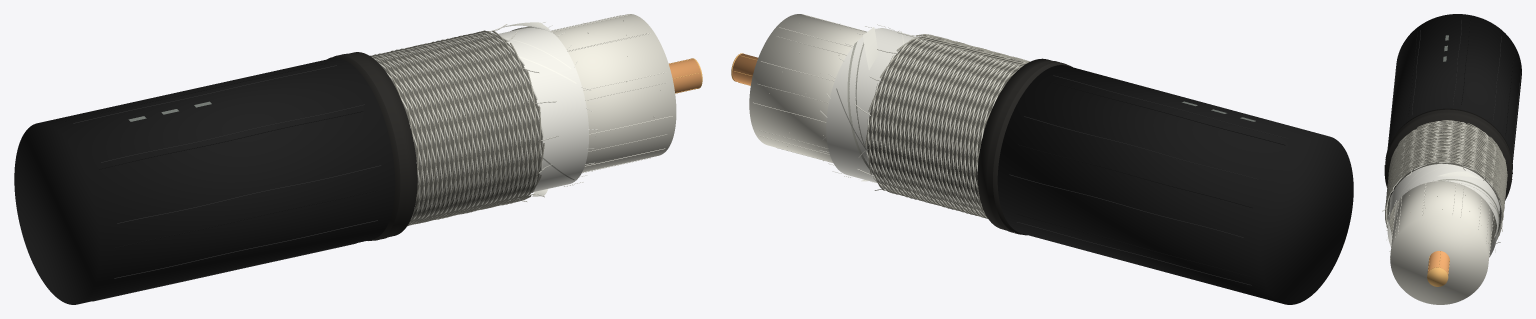
The model's file is rf-belden1505a-macro.glb.
The picture shows the model from 3 angles, left to right: view 1: azimuth 30°, elevation 25°; view 2: azimuth 150°, elevation 25°; view 3: azimuth 270°, elevation 25°; orthographic projection. The views are drawn at different scales.
Visible parts, largest first — view 1: macro jacket body, macro dielectric exposed core, shadow seen through braid windows, continuous foil sleeve under braid, thick jacket cut wall, rounded jacket cut lip, polished solid center conductor, macro braid shadow carrier 13 strand 1, macro braid shadow carrier 08 strand 1, macro braid shadow carrier 12 strand 1, macro braid shadow carrier 09 strand 1, macro braid shadow carrier 14 strand 1 (+14 smaller); view 2: macro jacket body, macro dielectric exposed core, shadow seen through braid windows, continuous foil sleeve under braid, thick jacket cut wall, rounded jacket cut lip, macro braid shadow carrier 03 strand 1, macro braid shadow carrier 14 strand 1, macro braid shadow carrier 08 strand 1, macro braid shadow carrier 04 strand 1, macro braid shadow carrier 01 strand 1, macro braid shadow carrier 02 strand 1 (+13 smaller); view 3: macro jacket body, macro dielectric exposed core, continuous foil sleeve under braid, thick jacket cut wall, shadow seen through braid windows, macro braid shadow carrier 09 strand 2, macro braid shadow carrier 10 strand 2, macro braid shadow carrier 11 strand 2, macro braid shadow carrier 08 strand 2, macro braid shadow carrier 07 strand 2, macro braid shadow carrier 12 strand 2, macro braid shadow carrier 06 strand 2 (+38 smaller).
Boxes of the visible parts, bbox=[...] form: macro jacket body: bbox=[14, 58, 395, 304]; macro dielectric exposed core: bbox=[551, 14, 676, 172]; shadow seen through braid windows: bbox=[375, 33, 542, 221]; continuous foil sleeve under braid: bbox=[499, 26, 588, 191]; thick jacket cut wall: bbox=[327, 52, 417, 240]; rounded jacket cut lip: bbox=[333, 53, 407, 240]; polished solid center conductor: bbox=[669, 58, 701, 93]; macro braid shadow carrier 13 strand 1: bbox=[377, 39, 544, 217]; macro braid shadow carrier 08 strand 1: bbox=[414, 31, 522, 222]; macro braid shadow carrier 12 strand 1: bbox=[372, 41, 540, 218]; macro braid shadow carrier 09 strand 1: bbox=[422, 30, 526, 220]; macro braid shadow carrier 14 strand 1: bbox=[382, 38, 541, 216]; macro jacket body: bbox=[997, 65, 1353, 304]; macro dielectric exposed core: bbox=[749, 14, 866, 162]; shadow seen through braid windows: bbox=[867, 37, 1024, 212]; continuous foil sleeve under braid: bbox=[826, 28, 917, 182]; thick jacket cut wall: bbox=[977, 58, 1072, 235]; rounded jacket cut lip: bbox=[986, 60, 1066, 234]; macro braid shadow carrier 03 strand 1: bbox=[877, 42, 1018, 208]; macro braid shadow carrier 14 strand 1: bbox=[889, 45, 1028, 210]; macro braid shadow carrier 08 strand 1: bbox=[880, 36, 996, 217]; macro braid shadow carrier 04 strand 1: bbox=[873, 41, 1014, 207]; macro braid shadow carrier 01 strand 1: bbox=[885, 44, 1023, 209]; macro braid shadow carrier 02 strand 1: bbox=[881, 42, 1021, 209]; macro jacket body: bbox=[1387, 14, 1521, 162]; macro dielectric exposed core: bbox=[1390, 181, 1493, 304]; continuous foil sleeve under braid: bbox=[1387, 164, 1499, 257]; thick jacket cut wall: bbox=[1384, 108, 1512, 200]; shadow seen through braid windows: bbox=[1387, 122, 1501, 233]; macro braid shadow carrier 09 strand 2: bbox=[1387, 120, 1506, 197]; macro braid shadow carrier 10 strand 2: bbox=[1385, 121, 1506, 203]; macro braid shadow carrier 11 strand 2: bbox=[1385, 122, 1506, 206]; macro braid shadow carrier 08 strand 2: bbox=[1387, 123, 1506, 196]; macro braid shadow carrier 07 strand 2: bbox=[1386, 136, 1507, 198]; macro braid shadow carrier 12 strand 2: bbox=[1385, 124, 1506, 210]; macro braid shadow carrier 06 strand 2: bbox=[1386, 136, 1507, 218].
Size of the model in its own units: 6.47 by 1.69 by 1.84.
